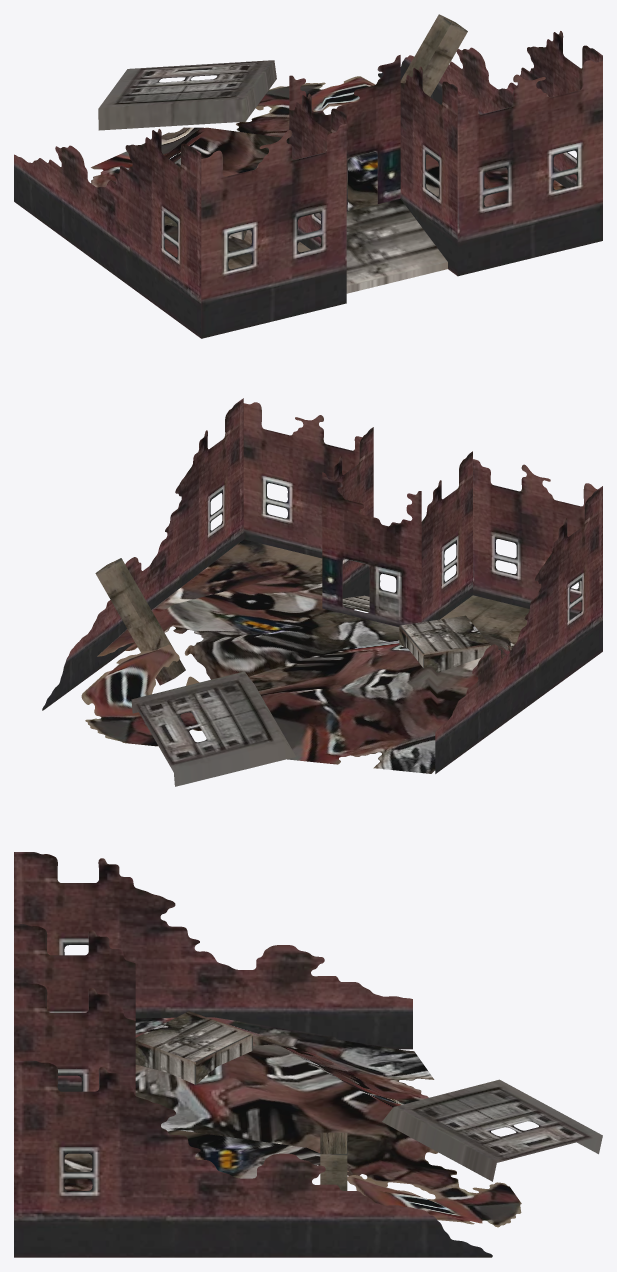
Rendered from heavyindustrial_dam_hdtex.glb.
3 renders of one model, top to bottom at view 1: azimuth 30°, elevation 25°; view 2: azimuth 150°, elevation 25°; view 3: azimuth 270°, elevation 25°, orthographic. The views are drawn at different scales.
Parts seen in each view (by area): view 1: HeavyIndustrial_damaged; view 2: HeavyIndustrial_damaged; view 3: HeavyIndustrial_damaged.
Part boxes in pixels (bbox=[...]): HeavyIndustrial_damaged: bbox=[14, 14, 602, 338]; HeavyIndustrial_damaged: bbox=[42, 398, 602, 786]; HeavyIndustrial_damaged: bbox=[14, 852, 602, 1257].
Bounding box in the file's own units: 17.3 × 9.1 × 20.2.
1 material, 1 textured.
